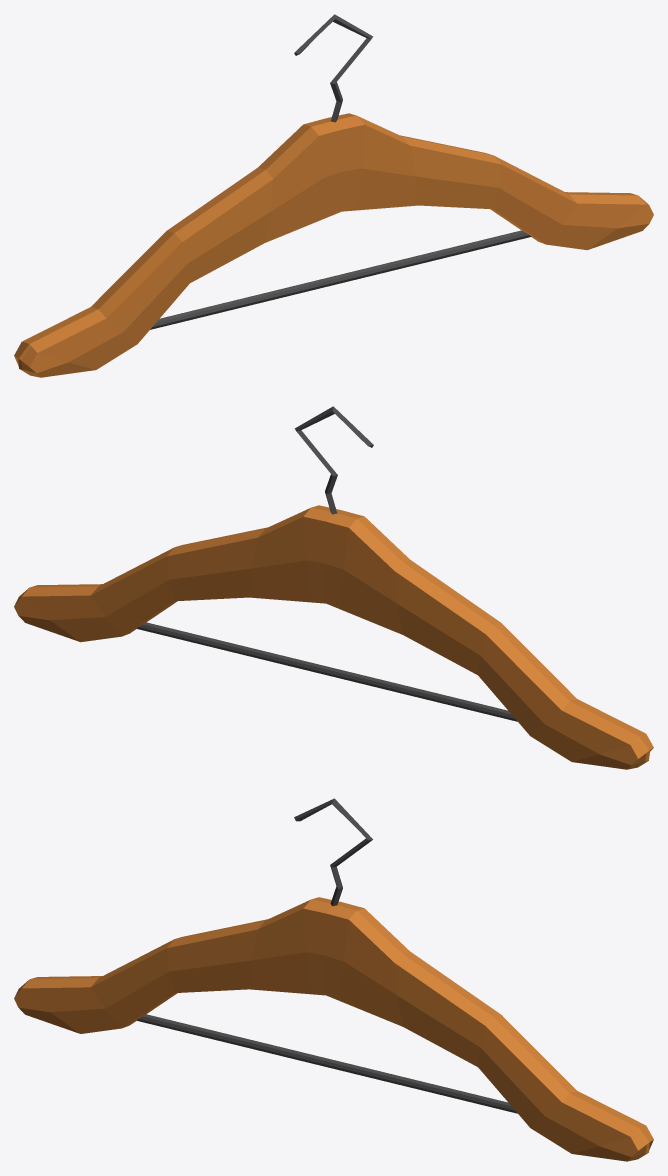
File: 2021hanger.fbx
3 views of the same model, one above another, from view 1: azimuth 30°, elevation 25°; view 2: azimuth 150°, elevation 25°; view 3: azimuth 330°, elevation 25° (orthographic).
Parts seen in each view (by area): view 1: Cube.005; view 2: Cube.005; view 3: Cube.005.
Boxes of the visible parts, <box> form: Cube.005: <box>14,14,653,377</box>; Cube.005: <box>14,406,653,769</box>; Cube.005: <box>14,798,653,1161</box>.
Size of the model in its own units: 111 by 49.13 by 5.53.
